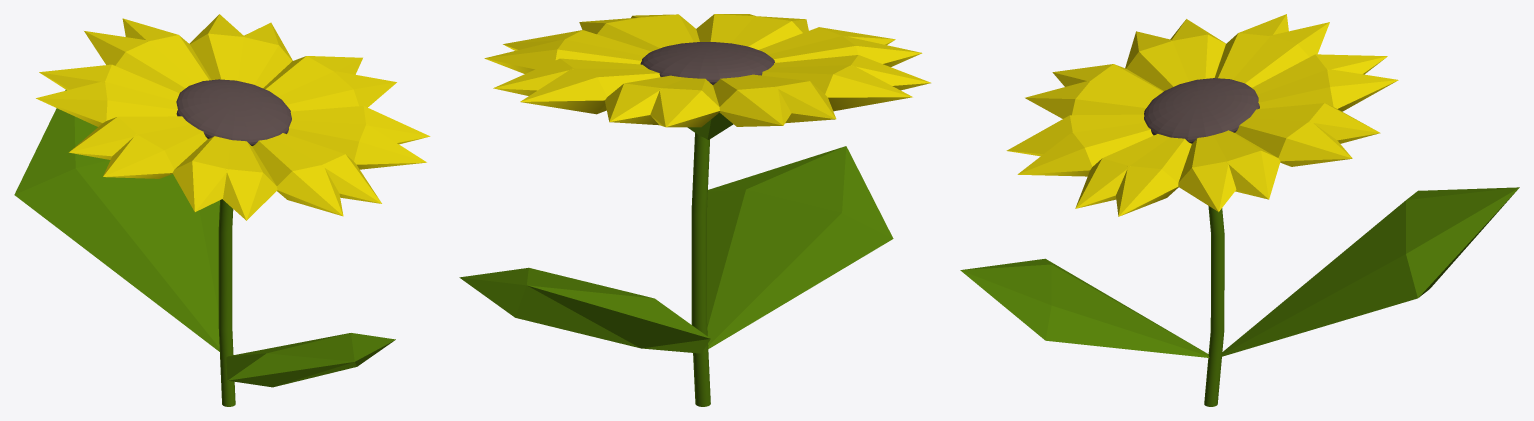
File: flower.fbx
3 renders of one model, left to right at view 1: azimuth 30°, elevation 25°; view 2: azimuth 150°, elevation 25°; view 3: azimuth 270°, elevation 25°, orthographic. The views are drawn at different scales.
Visible parts, largest first — view 1: leafbig, petals, petals2, pollen, leafsmall, stem; view 2: leafsmall, petals, petals2, leafbig, stem, pollen, greenthingunderflower; view 3: petals, petals2, leafbig, leafsmall, pollen, stem.
Part boxes in pixels (x1=…): leafbig: x1=14, y1=90, x2=219, y2=351; petals: x1=39, y1=18, x2=426, y2=216; petals2: x1=36, y1=14, x2=430, y2=220; pollen: x1=176, y1=79, x2=291, y2=145; leafsmall: x1=226, y1=333, x2=395, y2=387; stem: x1=218, y1=199, x2=235, y2=406; leafsmall: x1=707, y1=146, x2=893, y2=348; petals: x1=493, y1=14, x2=922, y2=126; petals2: x1=484, y1=14, x2=930, y2=127; leafbig: x1=459, y1=267, x2=710, y2=353; stem: x1=691, y1=133, x2=710, y2=406; pollen: x1=640, y1=42, x2=774, y2=84; greenthingunderflower: x1=687, y1=112, x2=733, y2=139; petals: x1=1006, y1=19, x2=1398, y2=211; petals2: x1=1017, y1=14, x2=1387, y2=216; leafbig: x1=1221, y1=187, x2=1519, y2=356; leafsmall: x1=960, y1=258, x2=1209, y2=357; pollen: x1=1144, y1=78, x2=1259, y2=143; stem: x1=1204, y1=206, x2=1224, y2=406.
Size of the model in its own units: 0.3308 by 0.2988 by 0.4666.
